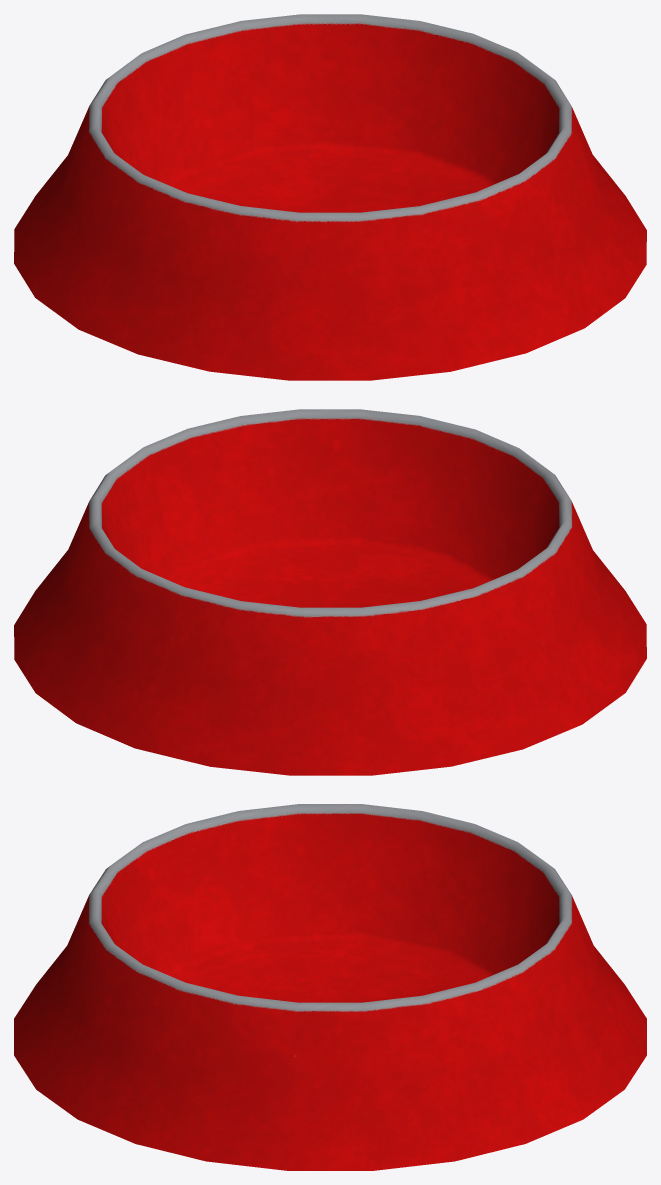
The picture shows the model from 3 angles, top to bottom: view 1: azimuth 30°, elevation 25°; view 2: azimuth 150°, elevation 25°; view 3: azimuth 270°, elevation 25°; orthographic projection.
Parts seen in each view (by area): view 1: dog; view 2: dog; view 3: dog.
Part boxes in pixels (left/top/right/bottom): dog: left=14, top=14, right=646, bottom=380; dog: left=14, top=409, right=646, bottom=775; dog: left=14, top=804, right=646, bottom=1170.
Bounding box in the file's own units: 9.91 × 2.31 × 9.91.
Materials: 1 (1 with a texture image).
